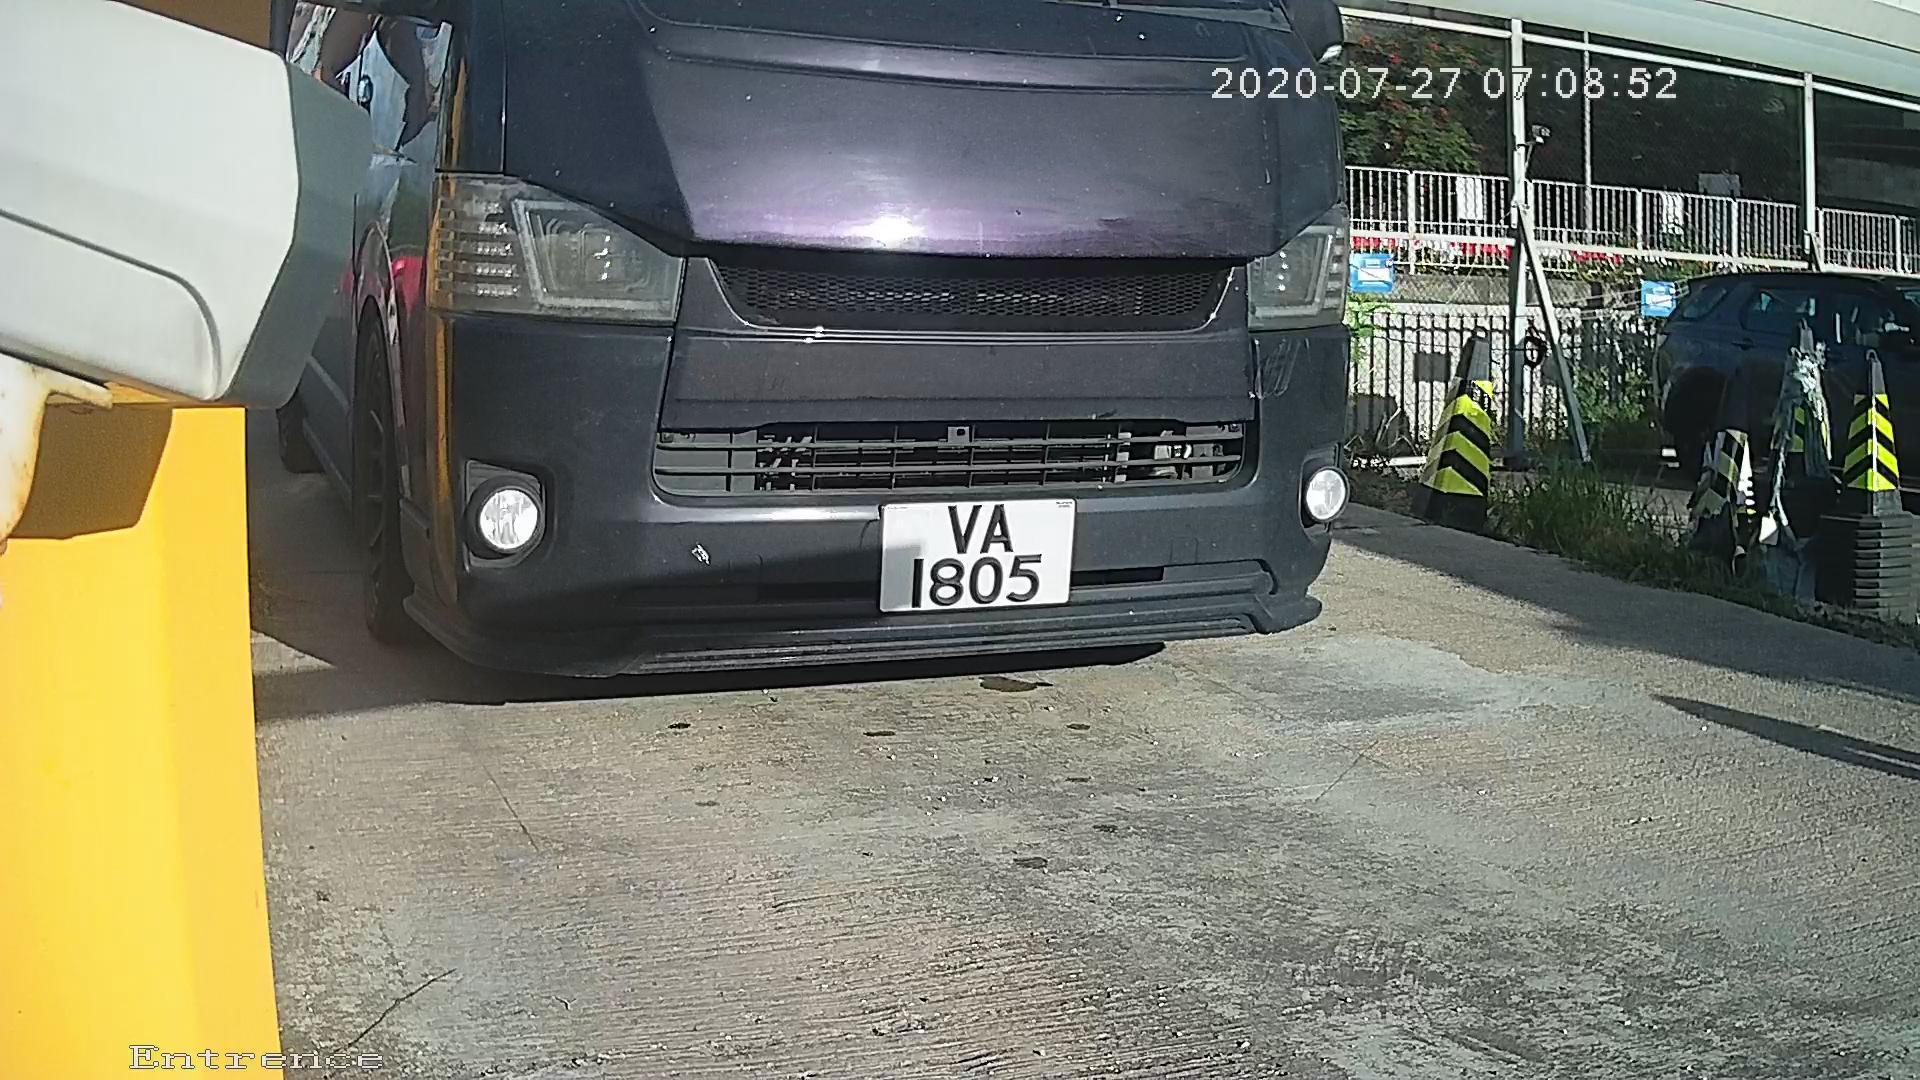Car: (172, 39, 1501, 719)
License Plate: (866, 487, 1080, 618)
